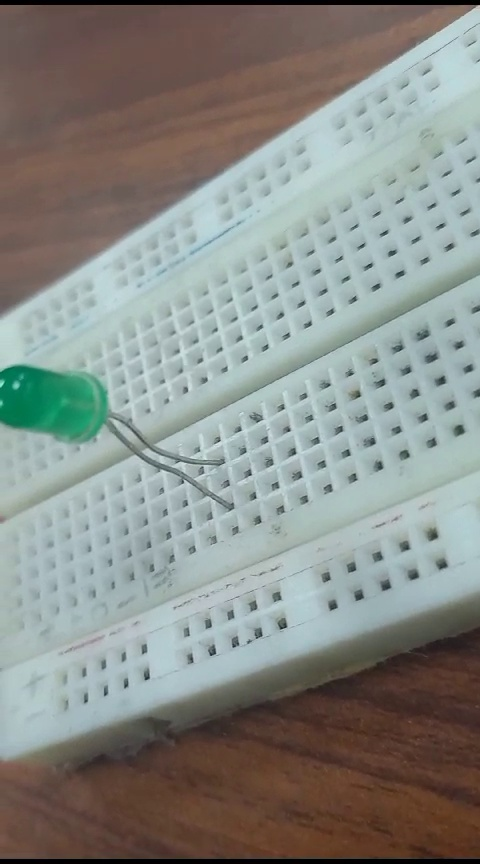LED: (3, 356, 231, 515)
